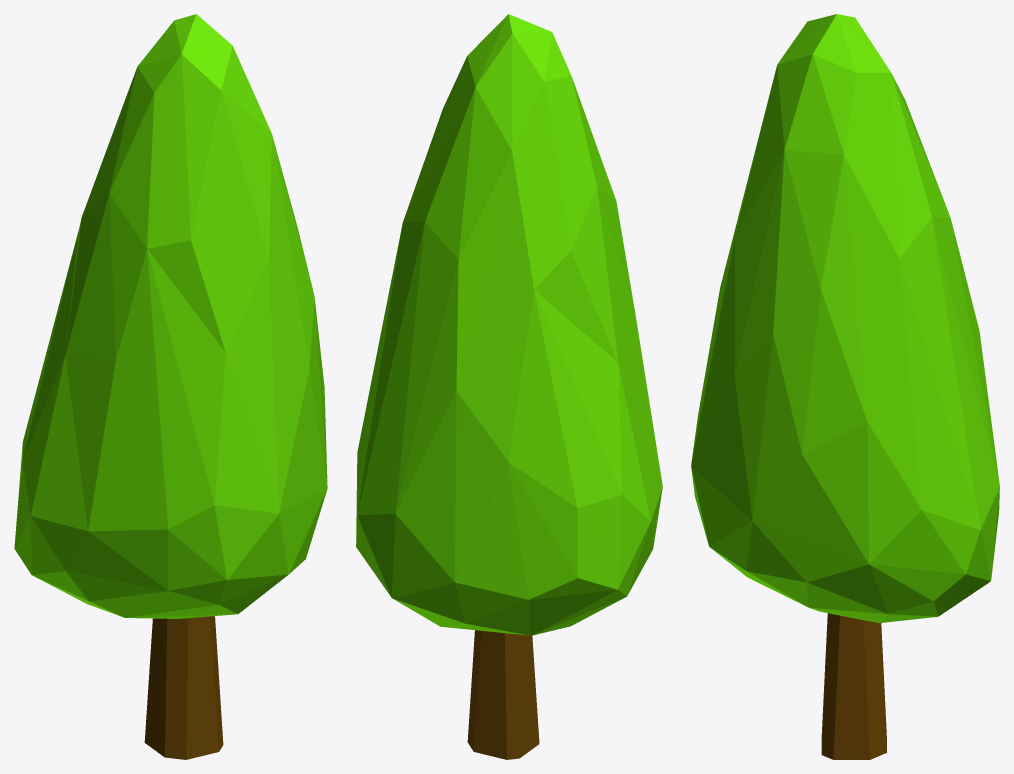
File: Boulbus_Tree_1.fbx
3 renders of one model, left to right at view 1: azimuth 30°, elevation 25°; view 2: azimuth 150°, elevation 25°; view 3: azimuth 270°, elevation 25°, orthographic.
Visible parts, largest first — view 1: Boulbus Tree 1; view 2: Boulbus Tree 1; view 3: Boulbus Tree 1.
Part boxes in pixels (x1,y1,x2,y2): Boulbus Tree 1: (14,14,327,759); Boulbus Tree 1: (356,14,662,759); Boulbus Tree 1: (691,14,999,759).
Size of the model in its own units: 97.5 by 248 by 94.62.
